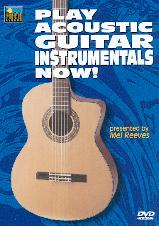guitar: (9, 1, 118, 221)
